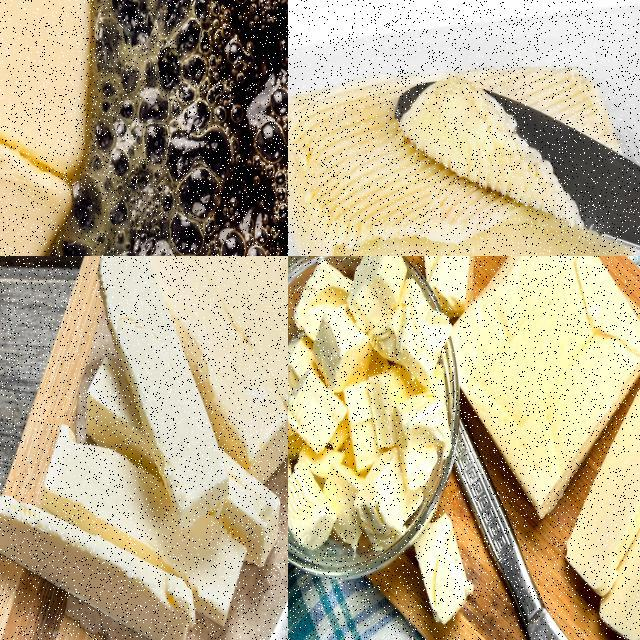Butter: (0, 256, 287, 639), (288, 58, 637, 255), (288, 256, 473, 551), (450, 256, 639, 515), (0, 0, 90, 255), (564, 358, 639, 639)
